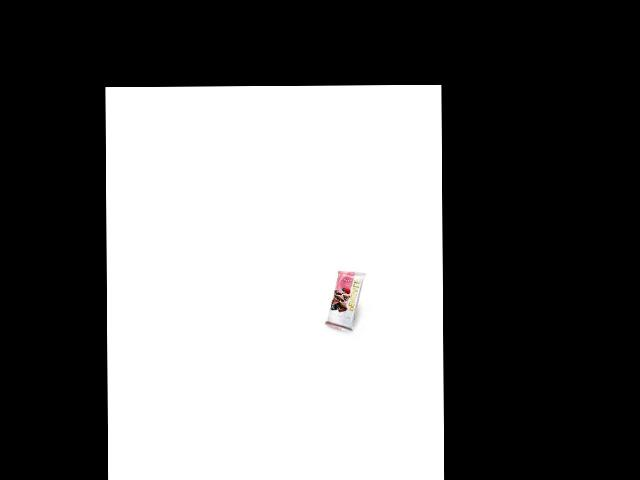chocolate: (323, 271, 366, 329)
